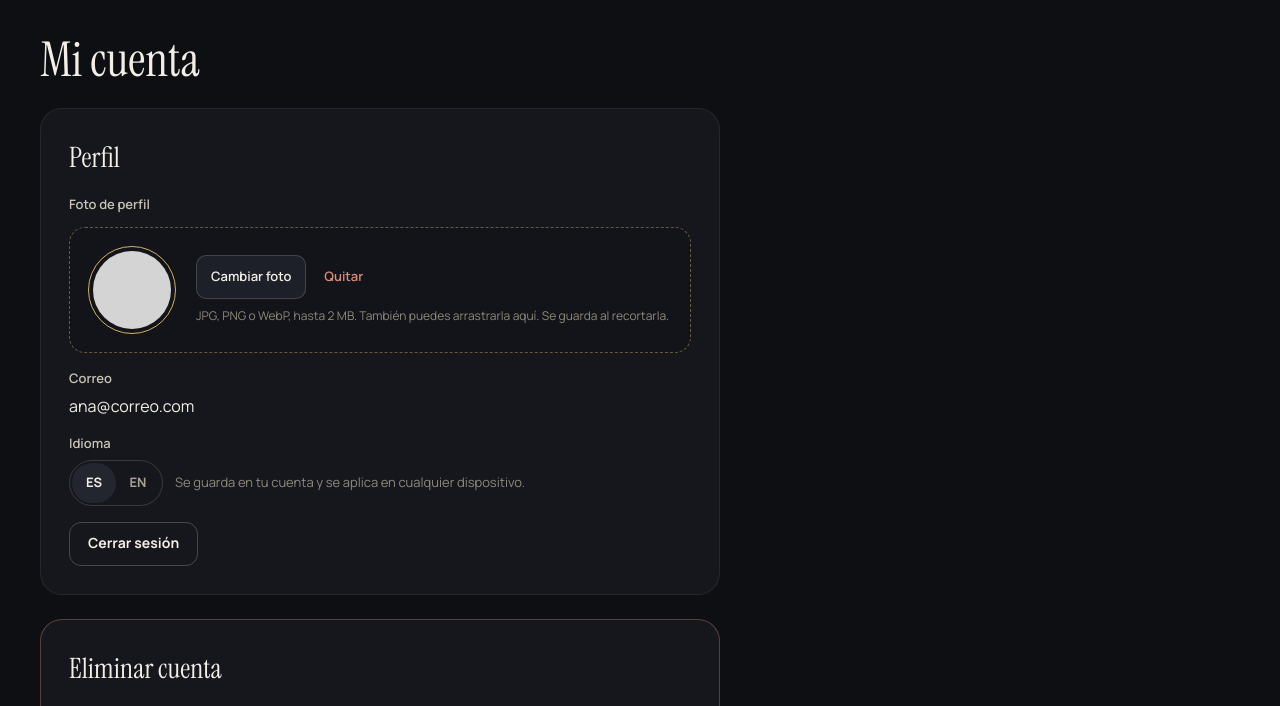
Test case: AccountView · foto de perfil › con foto la muestra y "Quitar" la borra y actualiza la sesión
The image size is (1280, 706).
Click the button "Quitar": (344, 276) [314,254,373,298]
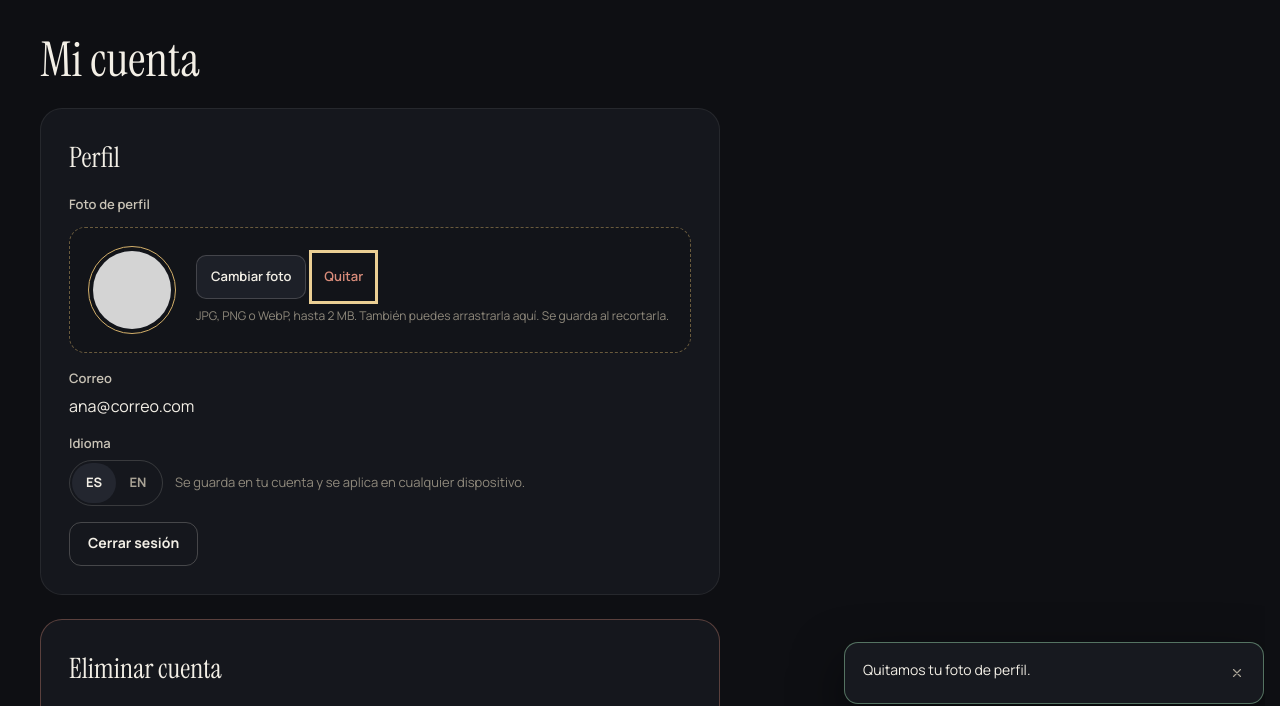
Expected: the text "Quitamos tu foto de perfil." is shown, [863,660,1030,679]
